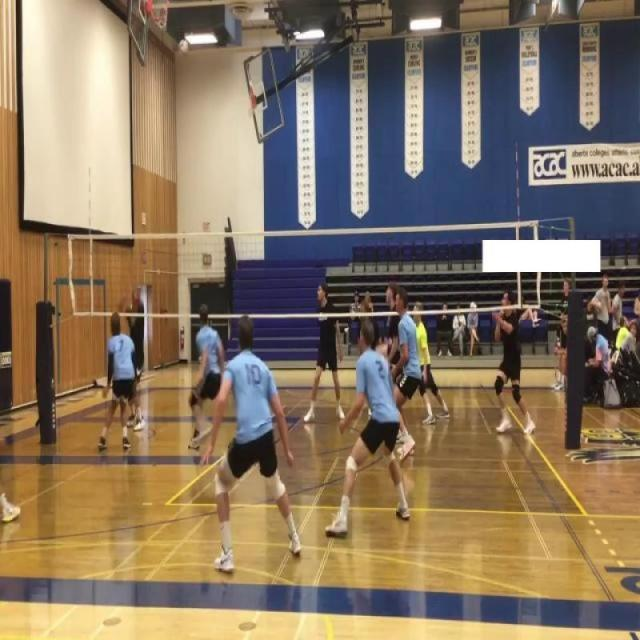volleyball: (178, 38, 188, 57), (198, 356, 202, 364)
